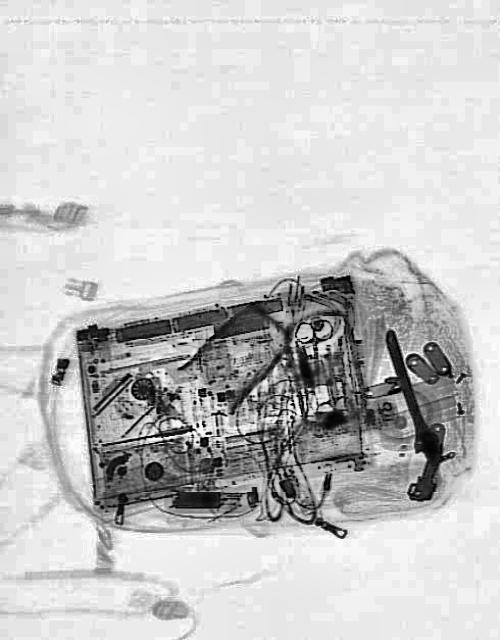Wrench: (374, 322, 446, 471)
